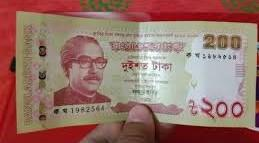200 tk: (16, 13, 255, 129)
